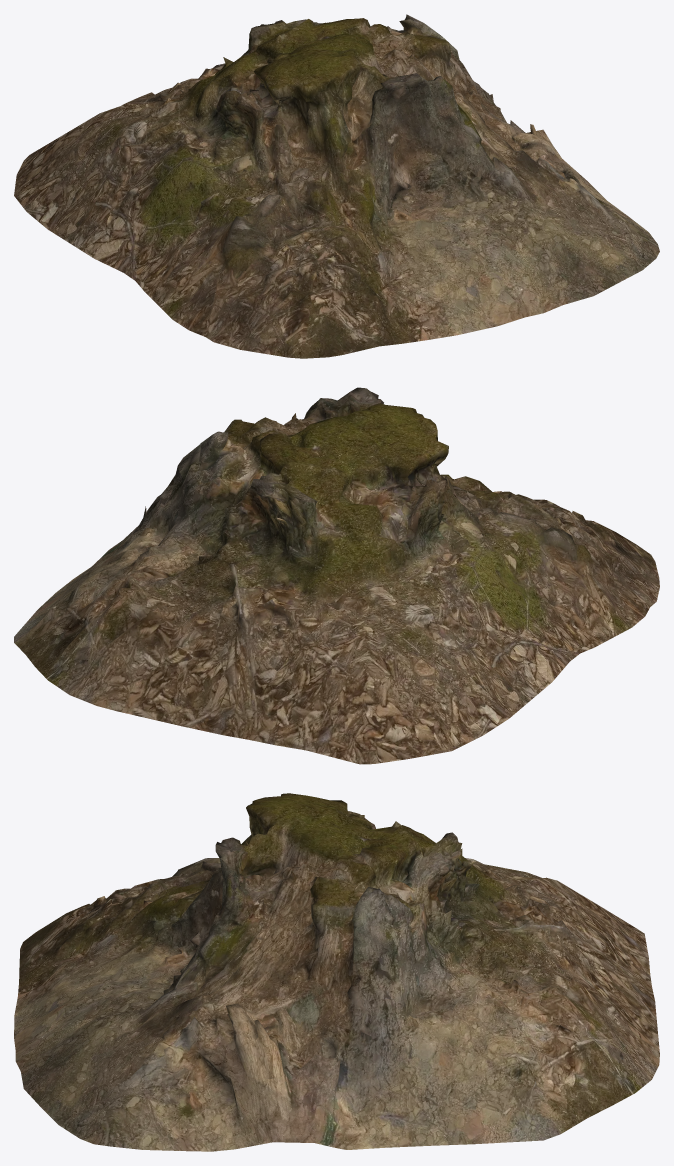
The model's file is stump1.glb.
3 views of the same model, one above another, from view 1: azimuth 30°, elevation 25°; view 2: azimuth 150°, elevation 25°; view 3: azimuth 270°, elevation 25° (orthographic). The views are drawn at different scales.
Visible parts, largest first — view 1: tree_stump_01; view 2: tree_stump_01; view 3: tree_stump_01.
Part boxes in pixels (box(x1,y1,x2,y2)): tree_stump_01: box(14, 14, 659, 358); tree_stump_01: box(14, 387, 659, 764); tree_stump_01: box(14, 793, 659, 1151).
Bounding box in the file's own units: 1.43 × 0.5709 × 1.59.
Materials: 1 (1 with a texture image).
